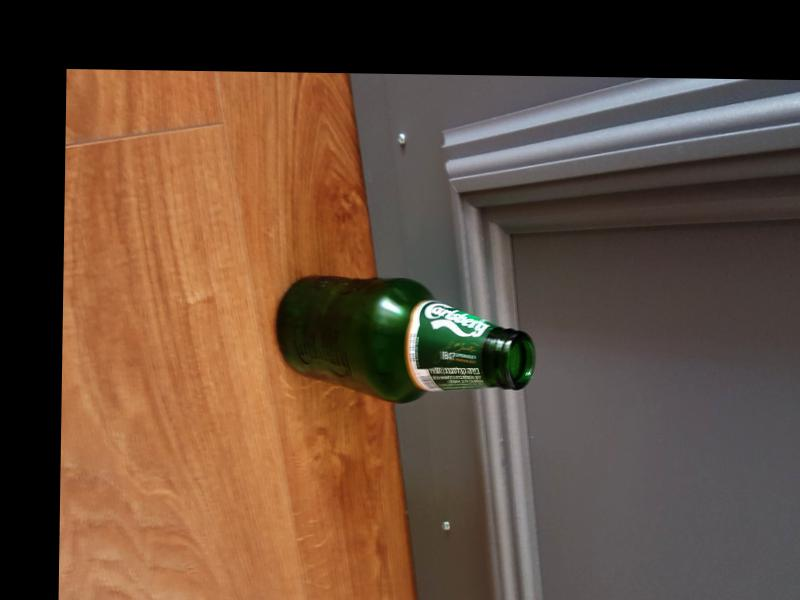Beer: (274, 274, 535, 406)
